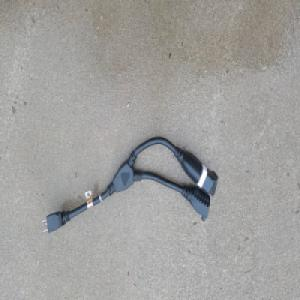Wire: (40, 133, 218, 234)
